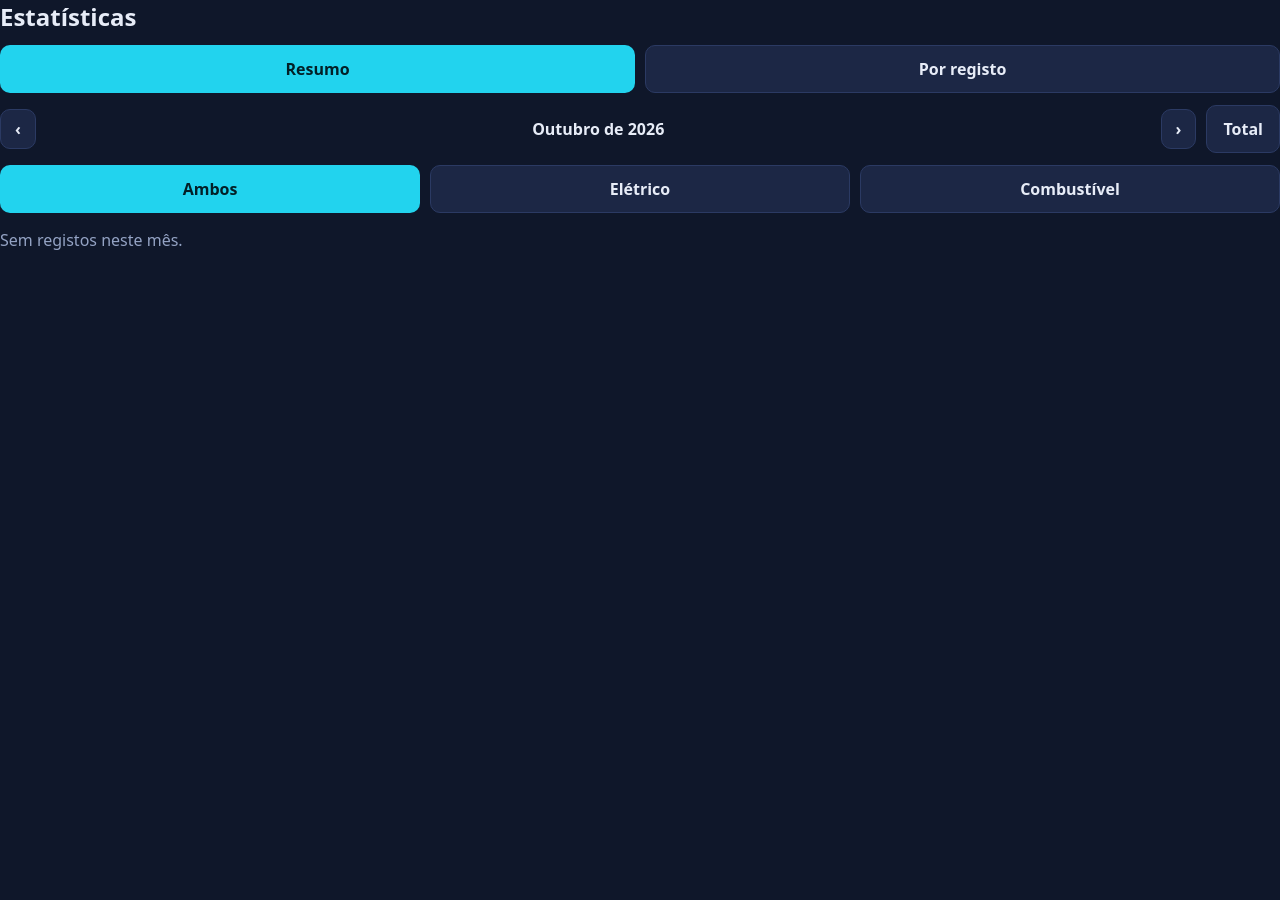
Test: StatsScreen › shows entries from other months after navigating with the month arrows
Expected: the text "Sem registos neste mês." is shown, [0,229,183,251]
Click the button named "Mês anterior": coordinates (18, 129) [0,109,36,149]
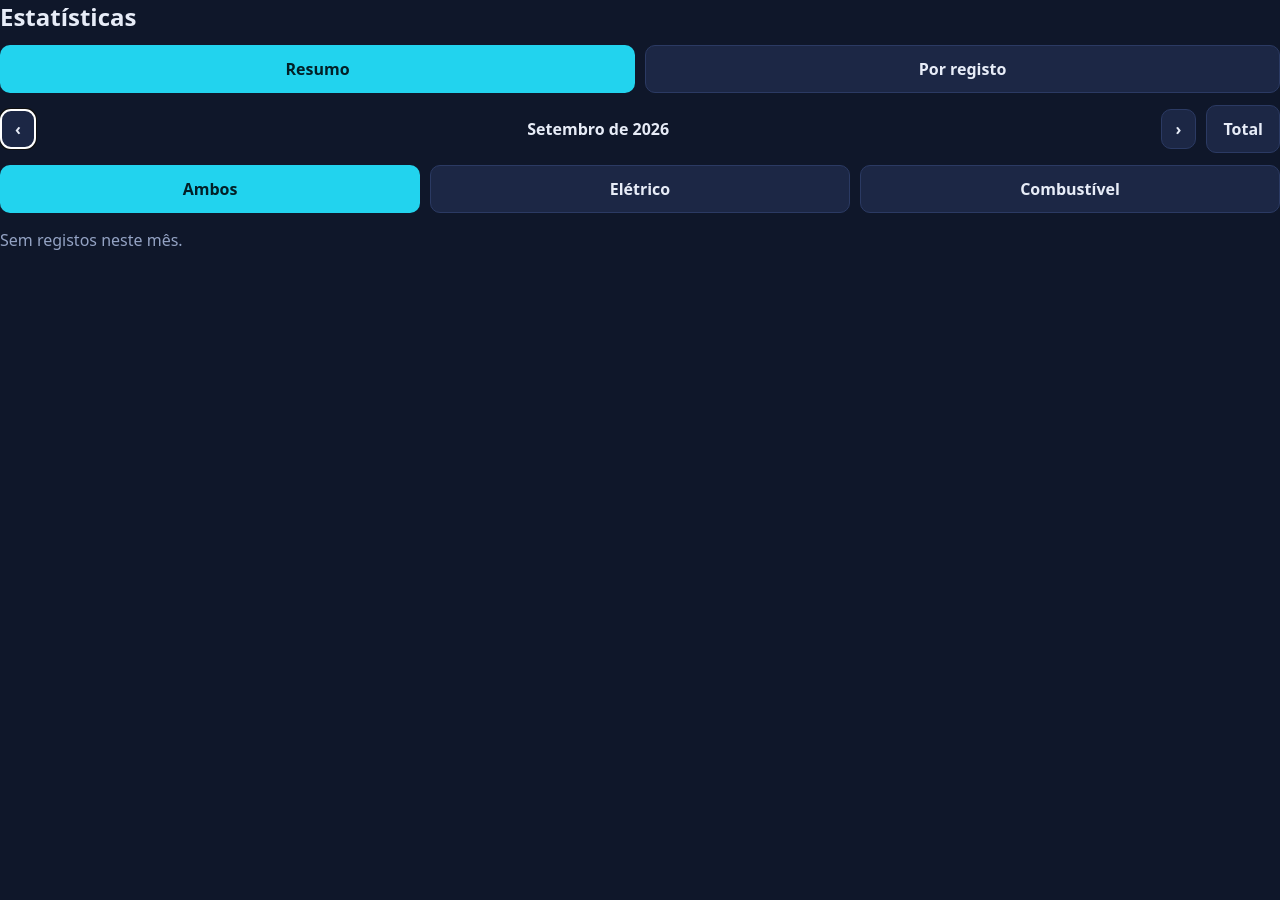
Click the button named "Mês anterior": coordinates (18, 129) [0,109,36,149]
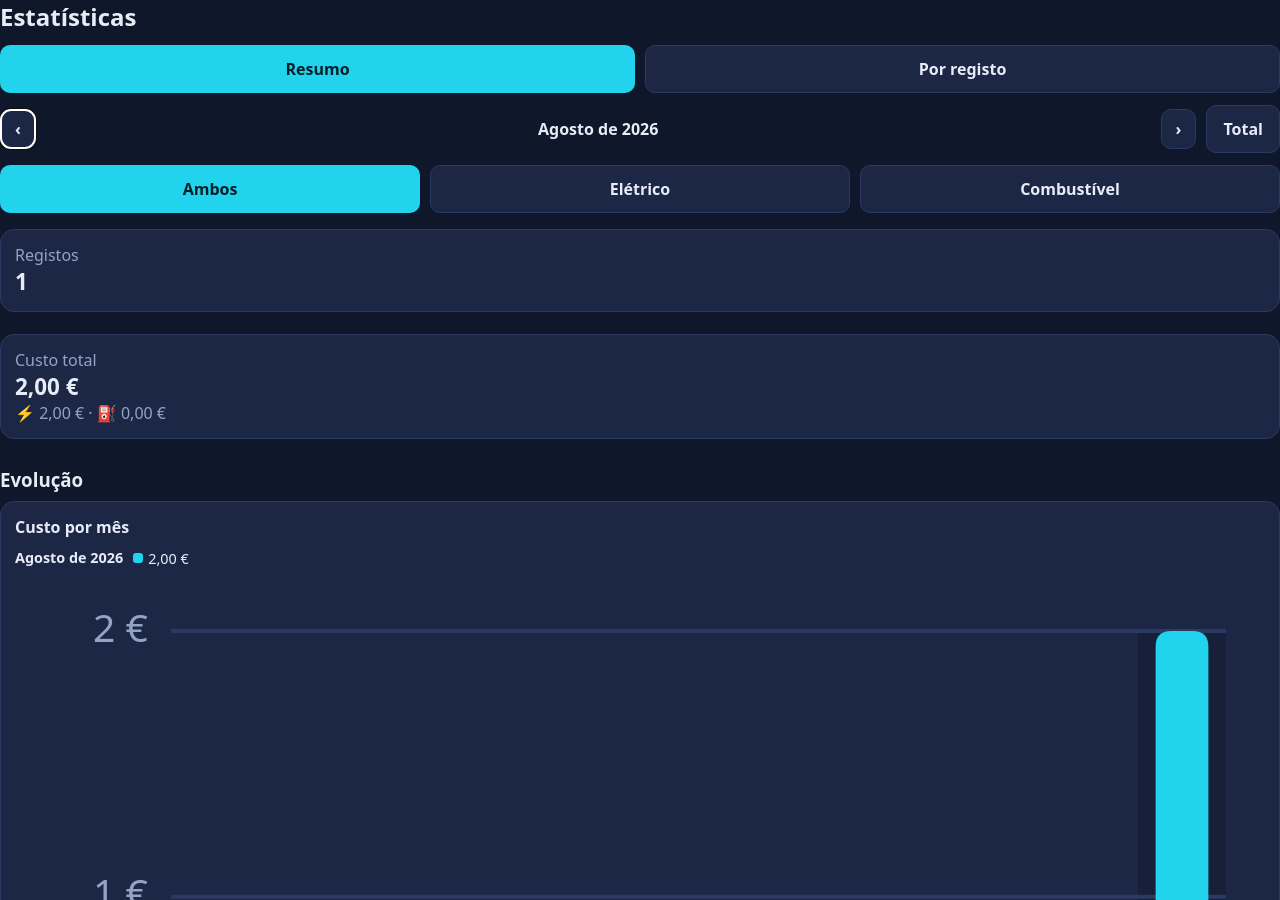
Expected: the text "1" is shown, [15,266,28,297]
